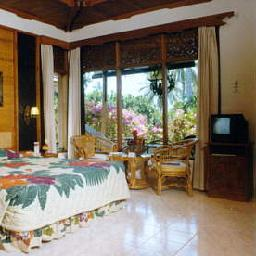Cama: (2, 150, 126, 242)
